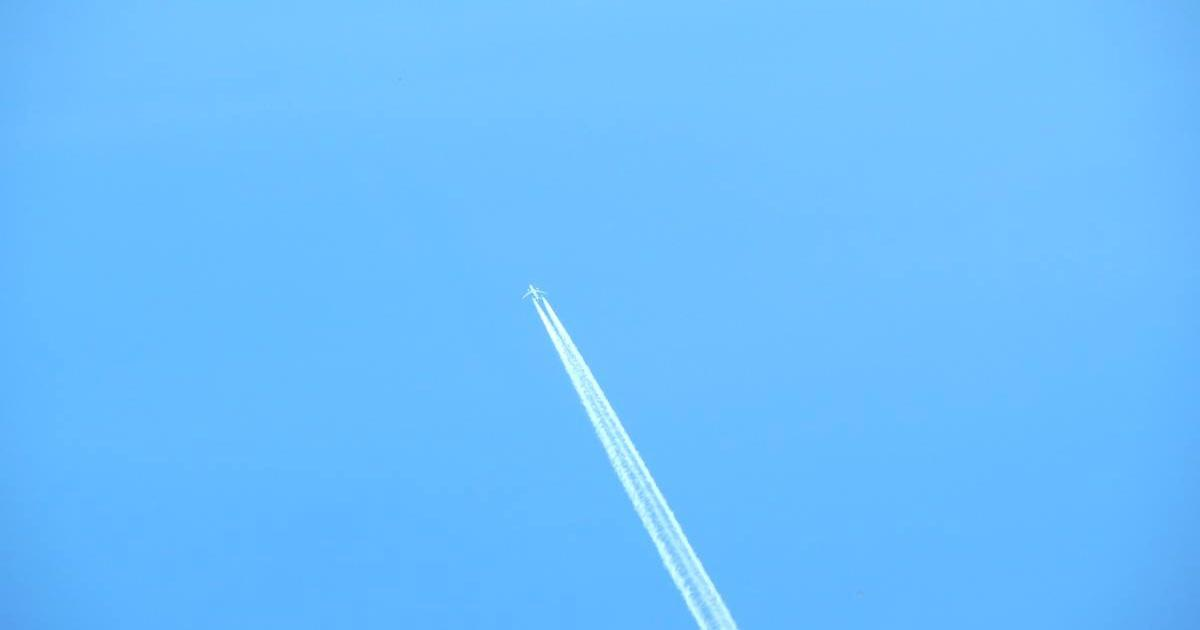Plane: (453, 266, 735, 607)
